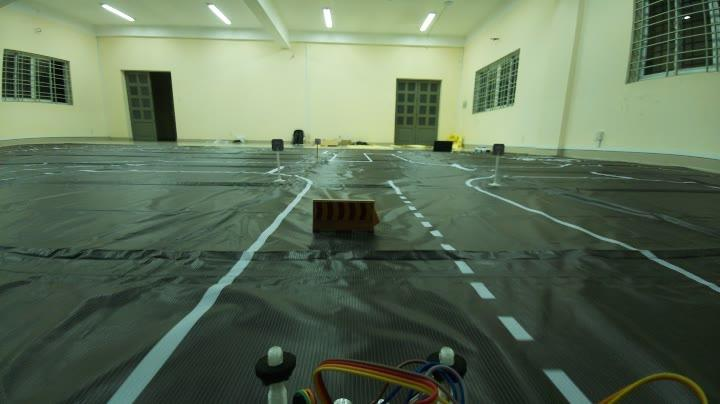roadblock: (304, 190, 391, 256)
